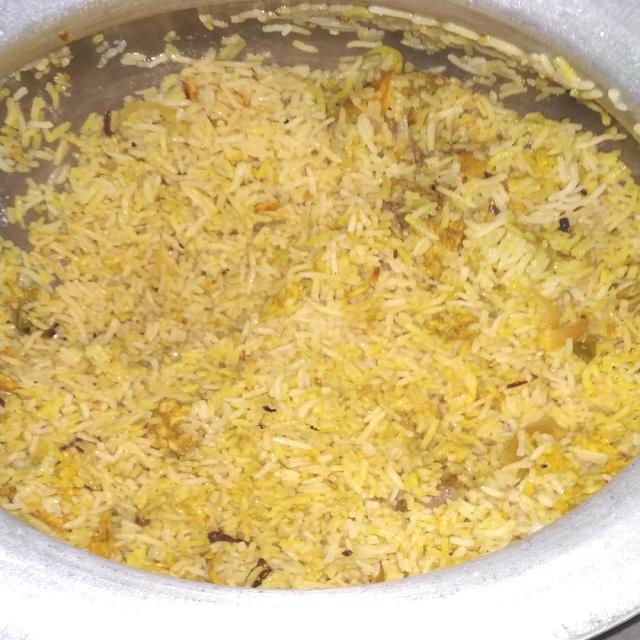biryani: (60, 29, 577, 631)
